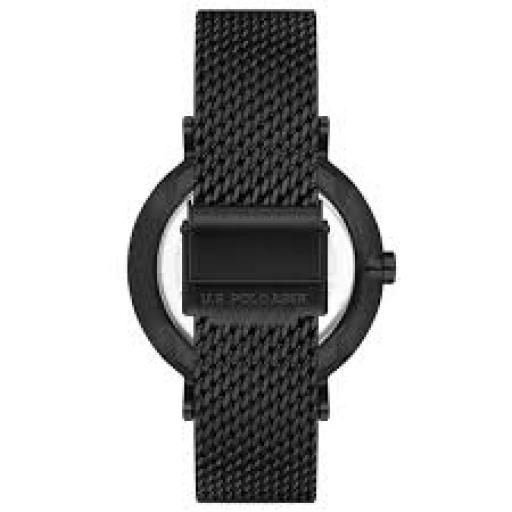KolSaati: (122, 2, 402, 512)
